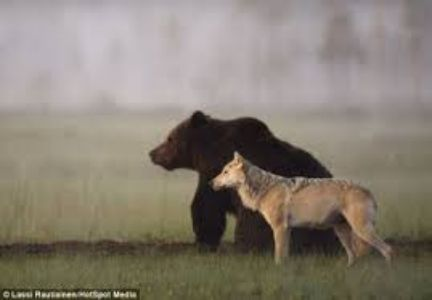bear: (149, 108, 286, 255)
wolf: (205, 154, 396, 266)
